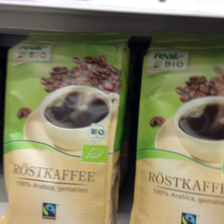coffee: (3, 30, 132, 224), (125, 31, 224, 223)
